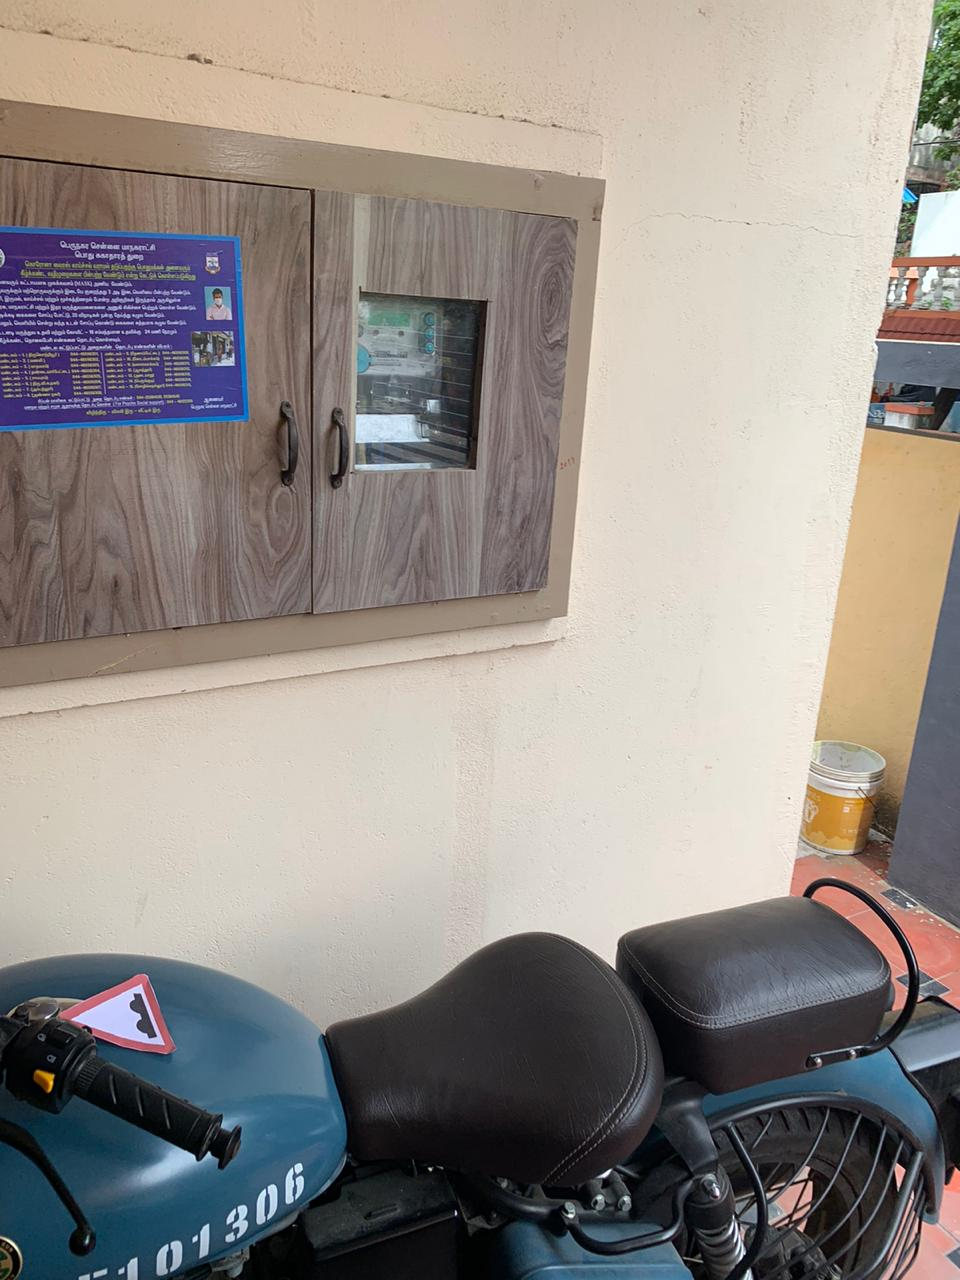UNEVEN ROAD: (53, 954, 182, 1060)
